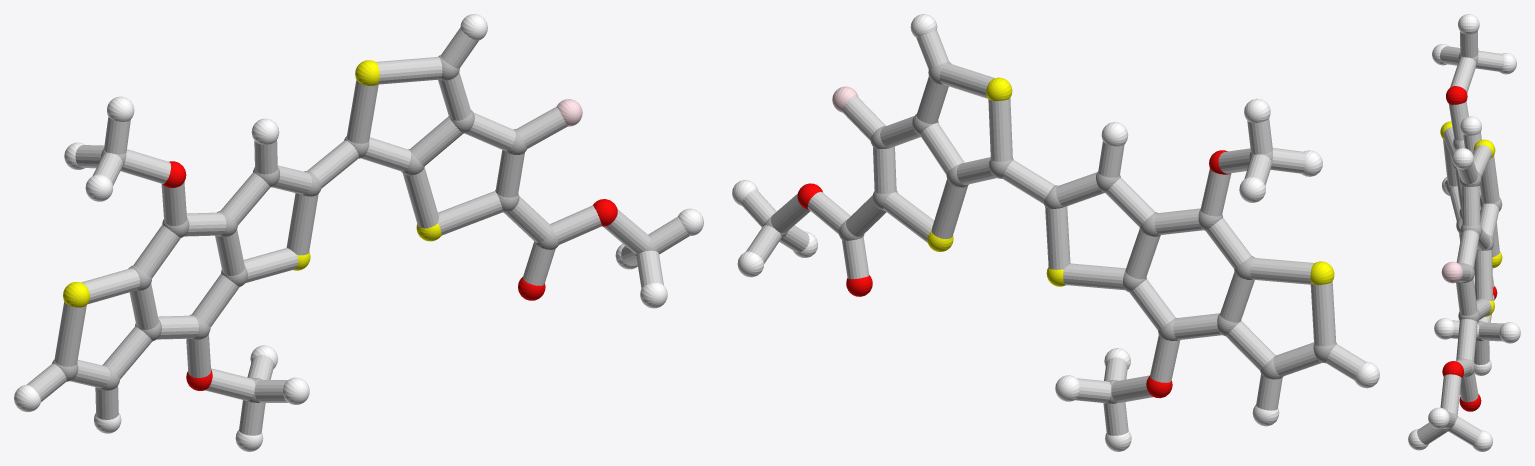
Rendered from Dimethoxy_Benzodithiophene_Phi_20_Theta_350_Methylcarbonyl_3_Fluoro_Thienothiophene.glb.
3 renders of one model, left to right at view 1: azimuth 30°, elevation 25°; view 2: azimuth 150°, elevation 25°; view 3: azimuth 270°, elevation 25°, orthographic. The views are drawn at different scales.
Parts seen in each view (by area): view 1: grp15205, grp8689, grp1, grp13395, grp7241; view 2: grp15205, grp8689, grp1, grp7241, grp13395; view 3: grp15205, grp8689, grp1, grp13395, grp7241, grp14843.
Boxes of the visible parts, x1=… form: grp15205: x1=27, y1=28, x2=689, y2=435; grp8689: x1=14, y1=14, x2=703, y2=451; grp1: x1=52, y1=55, x2=657, y2=402; grp13395: x1=162, y1=161, x2=617, y2=390; grp7241: x1=63, y1=60, x2=441, y2=307; grp15205: x1=741, y1=30, x2=1365, y2=435; grp8689: x1=732, y1=14, x2=1379, y2=451; grp1: x1=763, y1=62, x2=1336, y2=403; grp7241: x1=927, y1=77, x2=1334, y2=286; grp13395: x1=797, y1=150, x2=1230, y2=398; grp15205: x1=1417, y1=31, x2=1504, y2=445; grp8689: x1=1408, y1=14, x2=1520, y2=451; grp1: x1=1442, y1=53, x2=1502, y2=431; grp13395: x1=1442, y1=86, x2=1497, y2=411; grp7241: x1=1440, y1=121, x2=1502, y2=316; grp14843: x1=1441, y1=261, x2=1463, y2=283.
Size of the model in its own units: 16.98 by 9.38 by 3.12.
